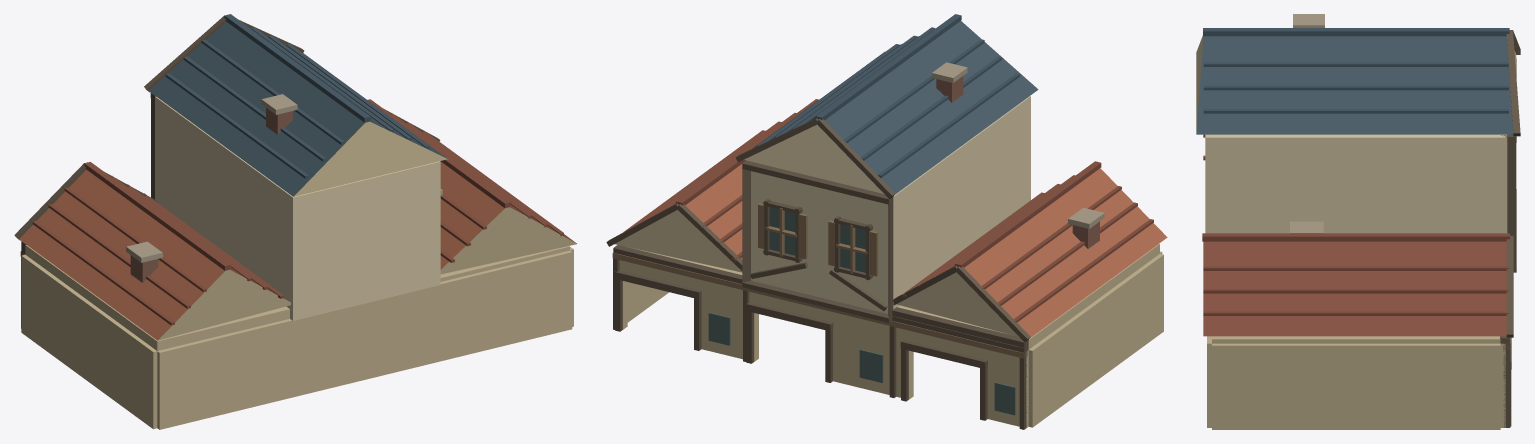
The model's file is WalkTown_RowA_Cover.fbx.
3 views of the same model, side by side, from view 1: azimuth 30°, elevation 25°; view 2: azimuth 150°, elevation 25°; view 3: azimuth 270°, elevation 25° (orthographic). The views are drawn at different scales.
Visible parts, largest first — view 1: OpenBuildings_WalkTown_RowA_Cover; view 2: OpenBuildings_WalkTown_RowA_Cover; view 3: OpenBuildings_WalkTown_RowA_Cover.
Part boxes in pixels (x1,y1,x2,y2): OpenBuildings_WalkTown_RowA_Cover: (14,14,576,429); OpenBuildings_WalkTown_RowA_Cover: (606,14,1167,429); OpenBuildings_WalkTown_RowA_Cover: (1196,14,1520,429).
Size of the model in its own units: 11.48 by 6.84 by 6.97.
